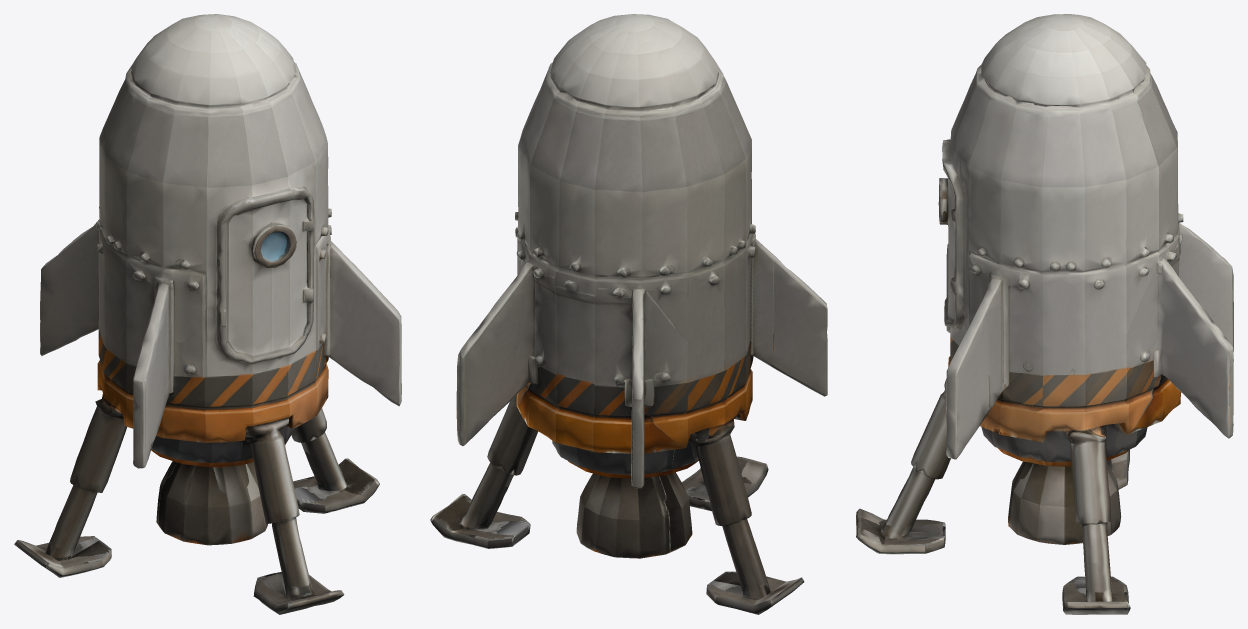
Rendered from Rocket.fbx.
3 views of the same model, side by side, from view 1: azimuth 30°, elevation 25°; view 2: azimuth 150°, elevation 25°; view 3: azimuth 270°, elevation 25° (orthographic). The views are drawn at different scales.
Parts seen in each view (by area): view 1: texture_mapping; view 2: texture_mapping; view 3: texture_mapping.
Boxes of the visible parts, x1,y1,x2,y2 form: texture_mapping: [14, 14, 401, 614]; texture_mapping: [430, 14, 827, 614]; texture_mapping: [856, 14, 1233, 614].
Size of the model in its own units: 0.6787 by 0.6602 by 1.
Materials: 1 (1 with a texture image).
